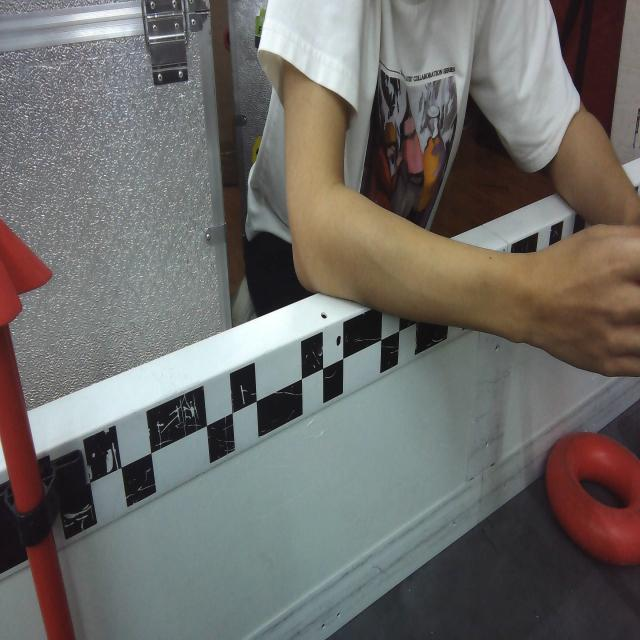zred-Stake-Head: (0, 216, 53, 326)
